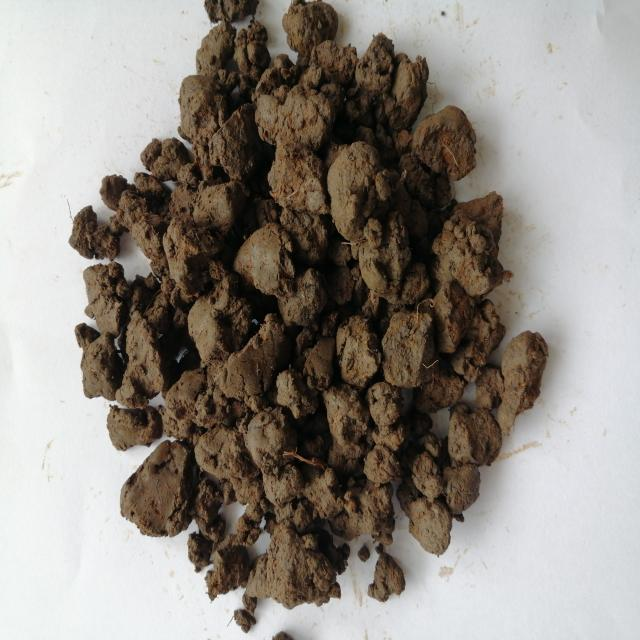soil: (112, 112, 457, 548)
